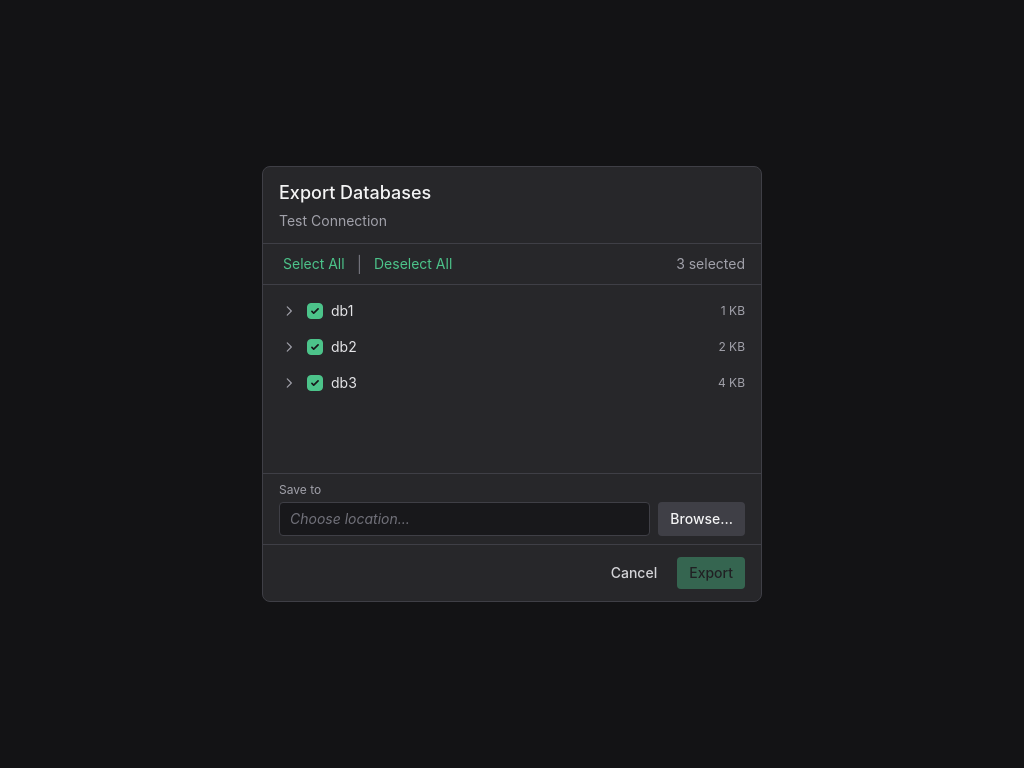
Scenario: UnifiedExportModal › connection scope (no databaseName) › should show preparing state when export starts
Click the button "Browse..." at (702, 519), box [658,502,745,536]
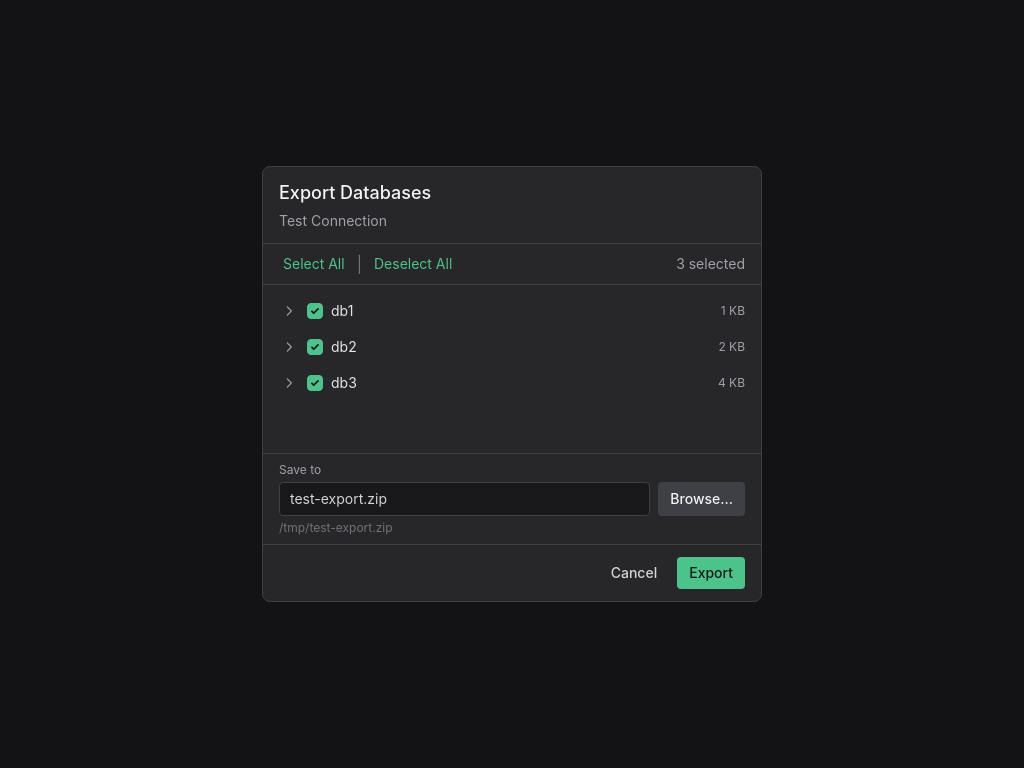
Result: the text "test-export.zip" is shown at [290,490,387,507]
Click the button "Export" at (711, 573), box [677,557,745,589]
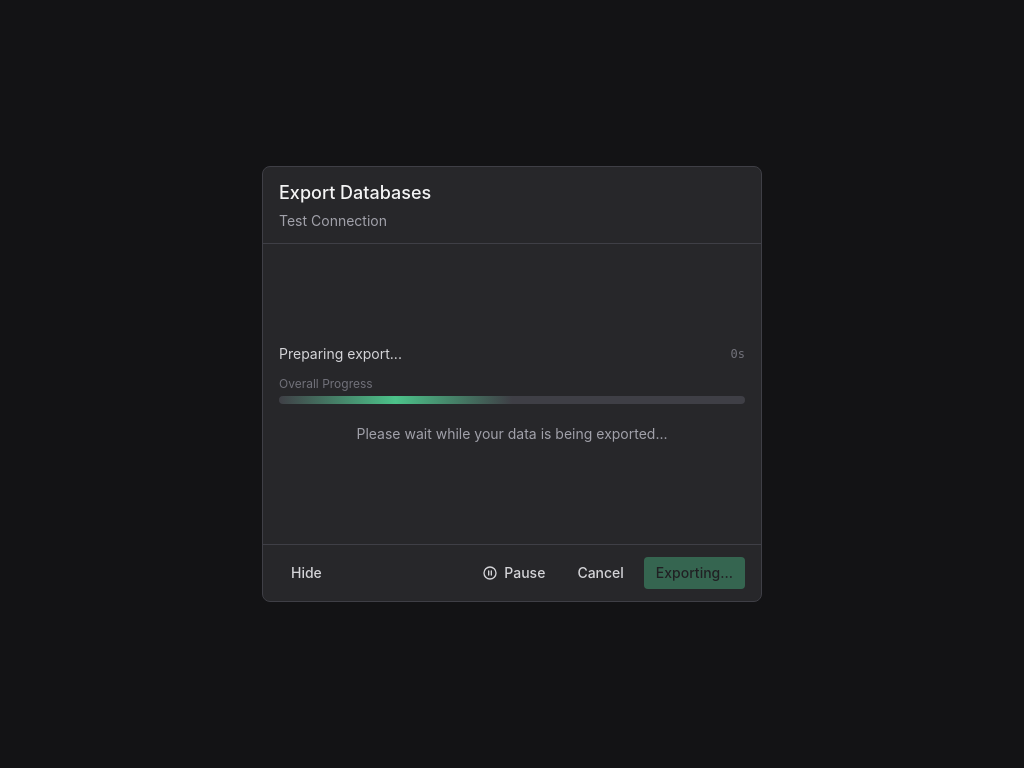
Result: the text "Preparing export..." is shown at [279,344,402,364]
